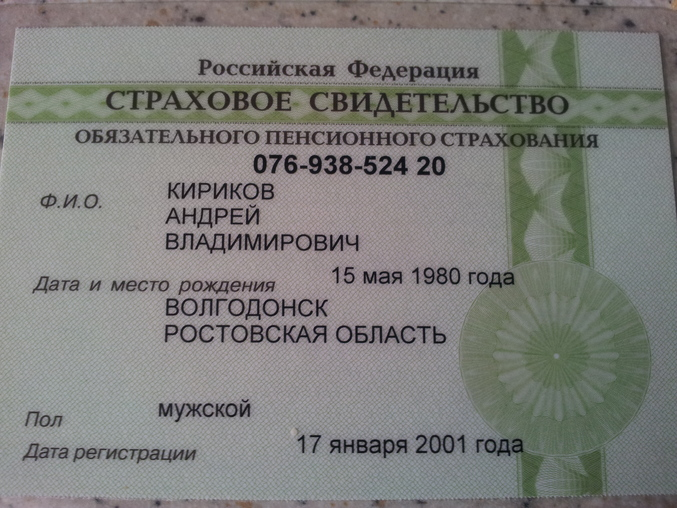text: (161, 291, 451, 350), (164, 226, 363, 259), (297, 432, 530, 459), (249, 150, 451, 180), (329, 262, 520, 291), (155, 396, 256, 423), (164, 178, 277, 202), (164, 204, 264, 229)
